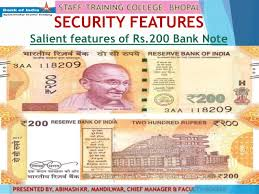twoHundred: (17, 60, 242, 110)
